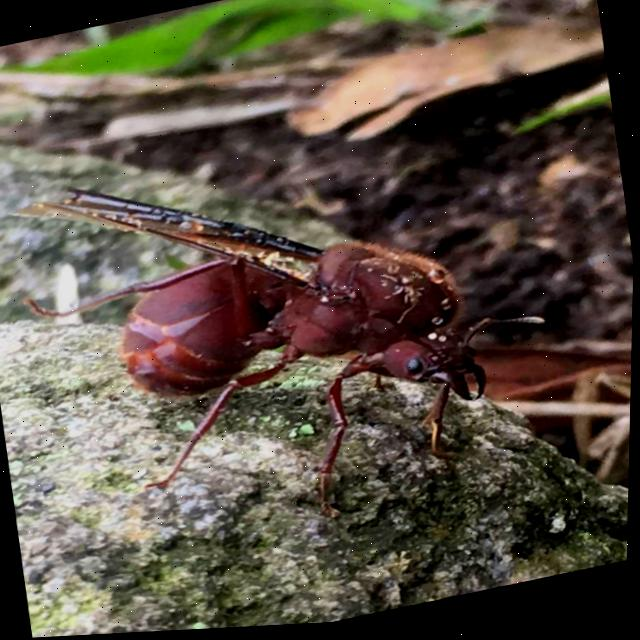Alive-Female-Alate: (2, 95, 576, 580)
